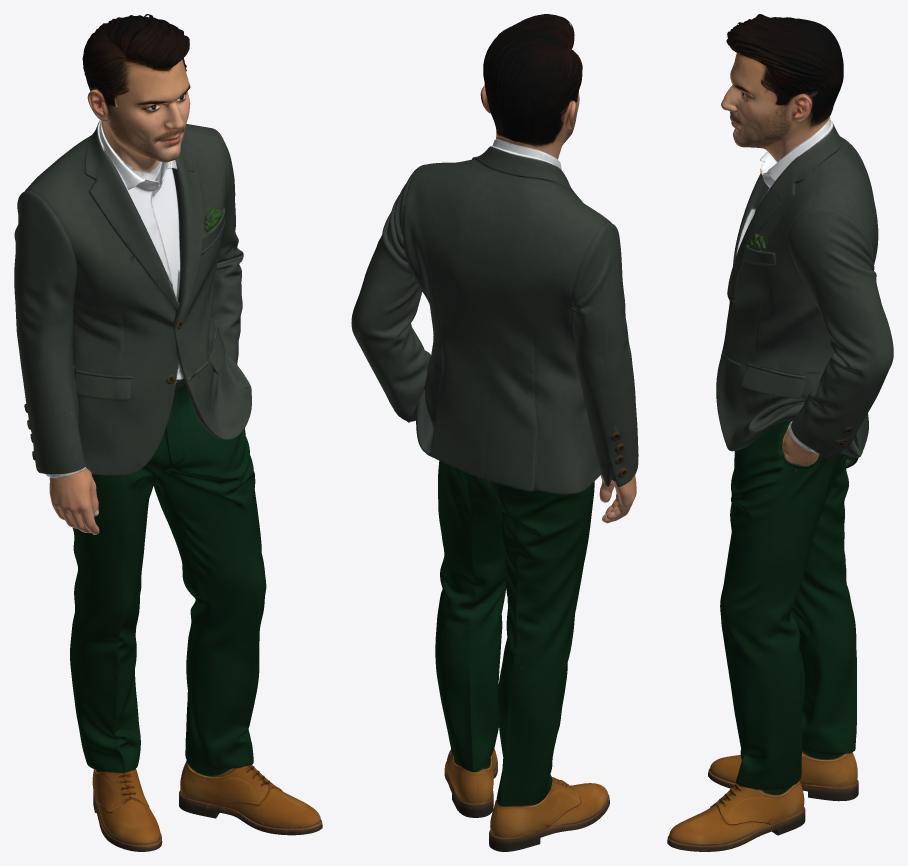
File: pro-suit.glb
The picture shows the model from 3 angles, left to right: view 1: azimuth 30°, elevation 25°; view 2: azimuth 150°, elevation 25°; view 3: azimuth 270°, elevation 25°; orthographic projection. The views are drawn at different scales.
Bounding box in the file's own units: 0.6031 × 1.9 × 0.5037.
Materials: 1 (1 with a texture image).
